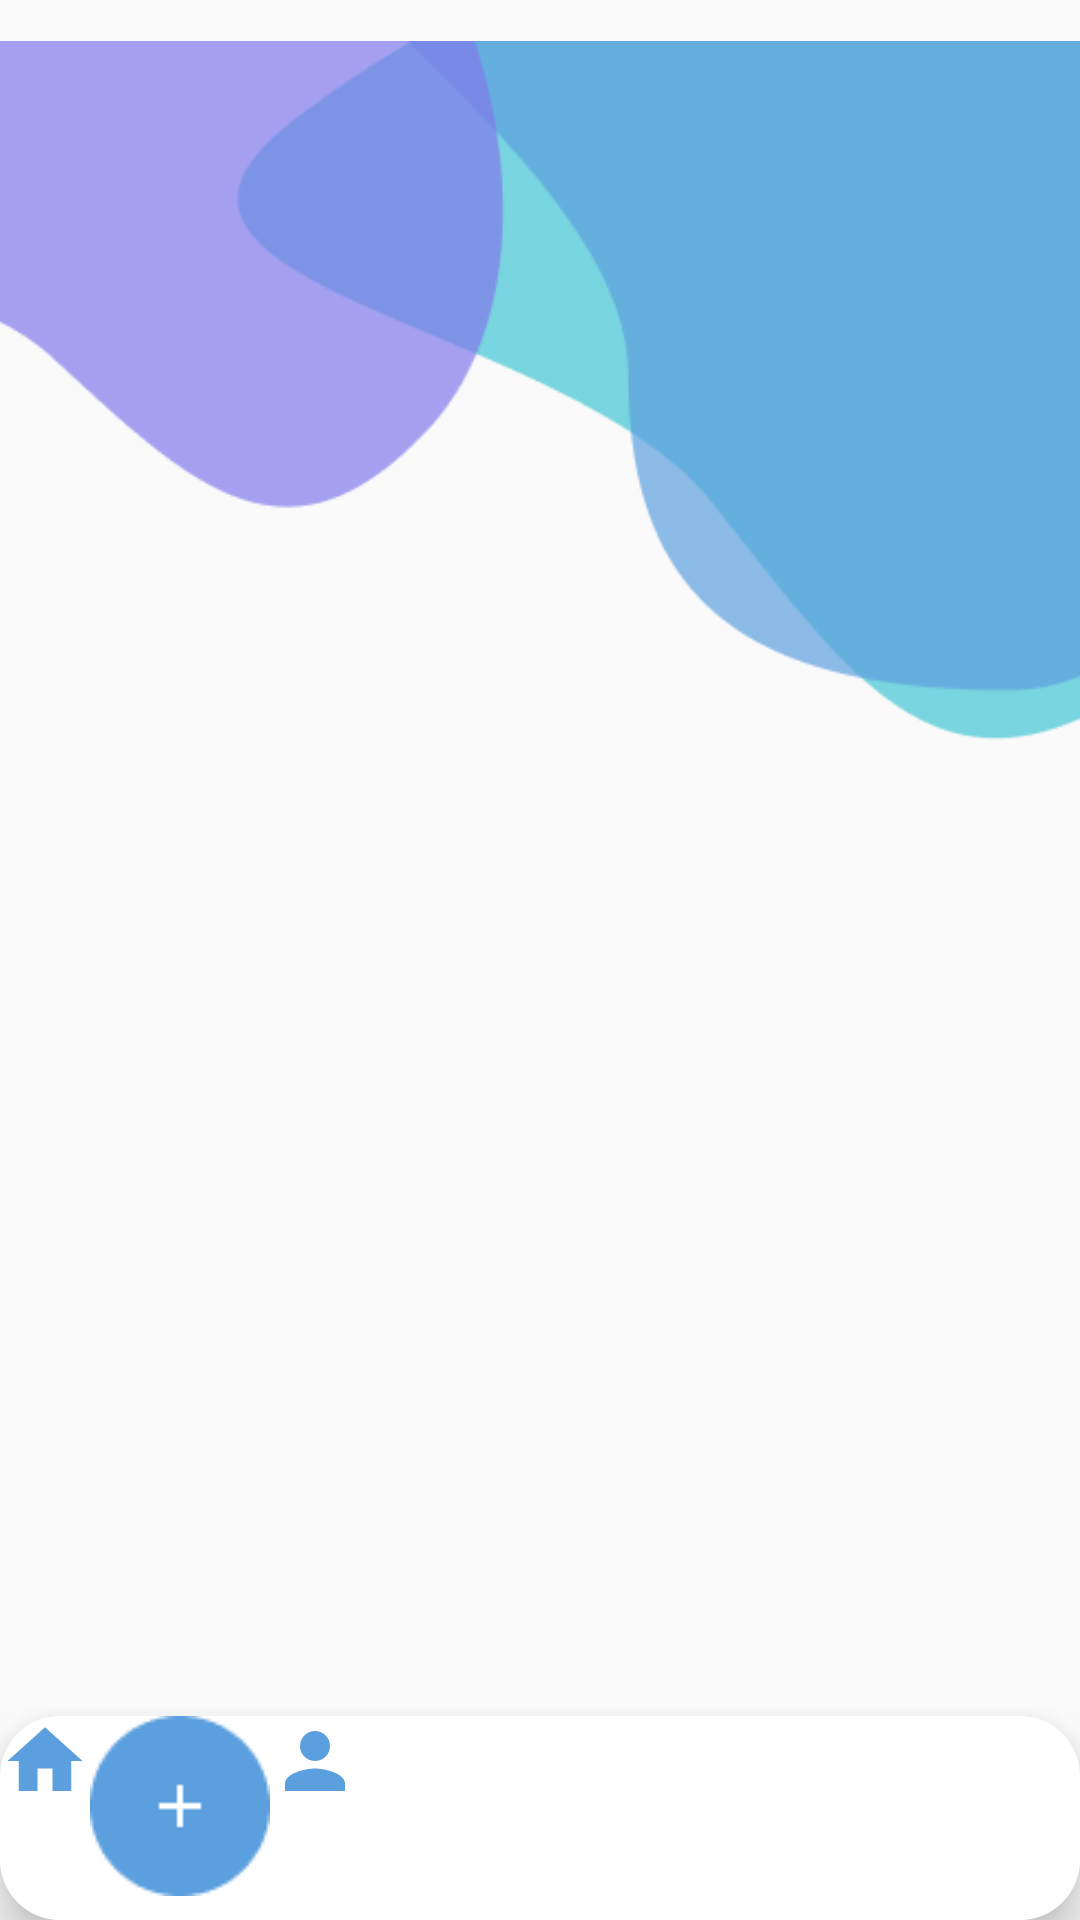

Screen size 1080x1920. Icon name, then its center in pixels as [x,y]:
create: [180,1806]
home: [45,1759]
person: [315,1761]
